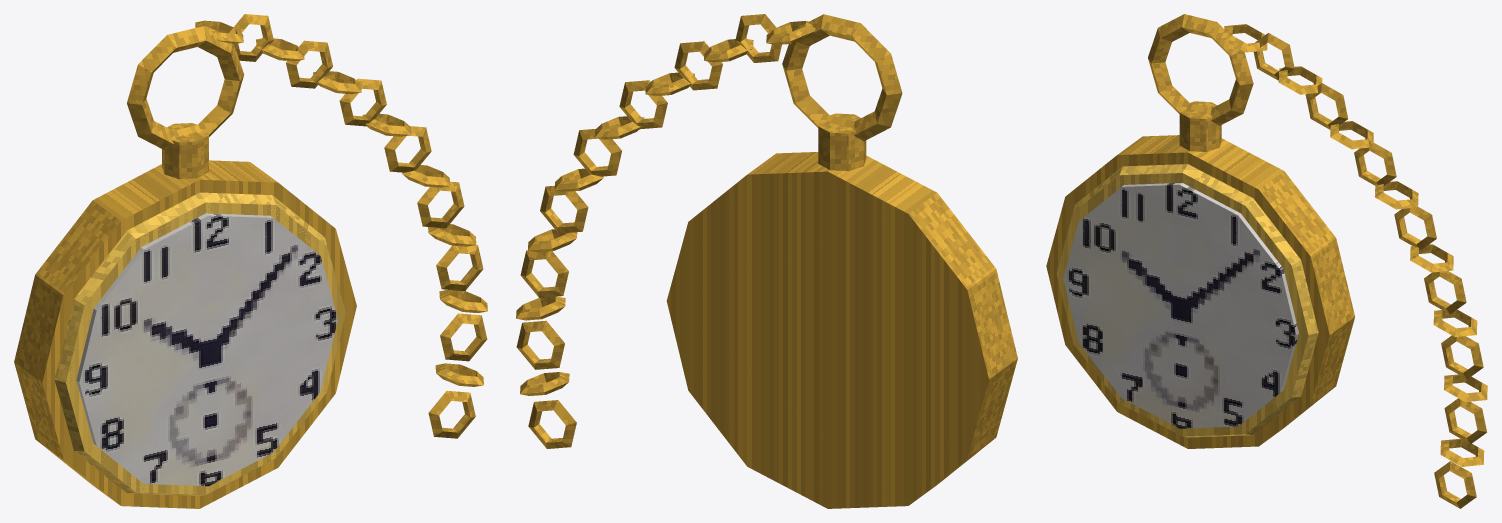
Rendered from 02-pocket-watch.glb.
3 renders of one model, left to right at view 1: azimuth 30°, elevation 25°; view 2: azimuth 150°, elevation 25°; view 3: azimuth 330°, elevation 25°, orthographic. The views are drawn at different scales.
Parts seen in each view (by area): view 1: Face, Case, Bezel, Bow, Crown, Link 15, Link 13, Link 11, Link 9, Link 5, Link 7, Link 3 (+9 smaller); view 2: Case, Bow, Crown, Link 13, Link 15, Link 11, Link 9, Link 3, Link 5, Link 7, Link 1, Link 14 (+7 smaller); view 3: Face, Case, Bezel, Bow, Crown, Link 15, Link 13, Link 11, Link 9, Link 5, Link 7, Link 3 (+9 smaller).
Part boxes in pixels (left/top/right/bottom): Face: left=76, top=213, right=337, bottom=486; Case: left=14, top=160, right=356, bottom=508; Bezel: left=54, top=192, right=345, bottom=496; Bow: left=127, top=26, right=244, bottom=149; Crown: left=162, top=123, right=208, bottom=179; Link 15: left=428, top=390, right=475, bottom=438; Link 13: left=440, top=313, right=487, bottom=361; Link 11: left=436, top=245, right=483, bottom=290; Link 9: left=417, top=181, right=464, bottom=228; Link 5: left=339, top=78, right=386, bottom=126; Link 7: left=384, top=126, right=431, bottom=172; Link 3: left=286, top=40, right=332, bottom=88; Case: left=666, top=152, right=1017, bottom=508; Bow: left=782, top=14, right=902, bottom=141; Crown: left=818, top=113, right=866, bottom=171; Link 13: left=516, top=320, right=564, bottom=369; Link 15: left=528, top=400, right=576, bottom=448; Link 11: left=520, top=250, right=568, bottom=297; Link 9: left=540, top=185, right=588, bottom=233; Link 3: left=674, top=41, right=722, bottom=90; Link 5: left=619, top=80, right=667, bottom=129; Link 7: left=573, top=128, right=621, bottom=176; Link 1: left=735, top=14, right=781, bottom=62; Link 14: left=520, top=372, right=569, bottom=395; Face: left=1063, top=183, right=1298, bottom=428; Case: left=1046, top=135, right=1354, bottom=448; Bezel: left=1056, top=164, right=1318, bottom=437; Bow: left=1148, top=14, right=1253, bottom=125; Crown: left=1179, top=101, right=1221, bottom=151; Link 15: left=1434, top=461, right=1476, bottom=508; Link 13: left=1444, top=398, right=1486, bottom=444; Link 11: left=1441, top=335, right=1483, bottom=379; Link 9: left=1424, top=271, right=1466, bottom=314; Link 5: left=1354, top=141, right=1396, bottom=185; Link 7: left=1394, top=206, right=1436, bottom=250; Link 3: left=1305, top=83, right=1348, bottom=129.
Size of the model in its own units: 0.1336 by 0.1319 by 0.0216.
3 materials, 3 textured.
